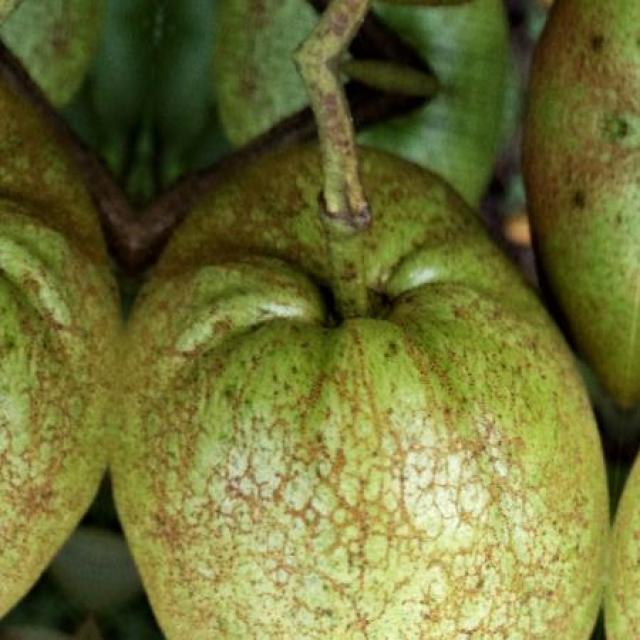Scab: (112, 146, 608, 639), (0, 55, 121, 614)
